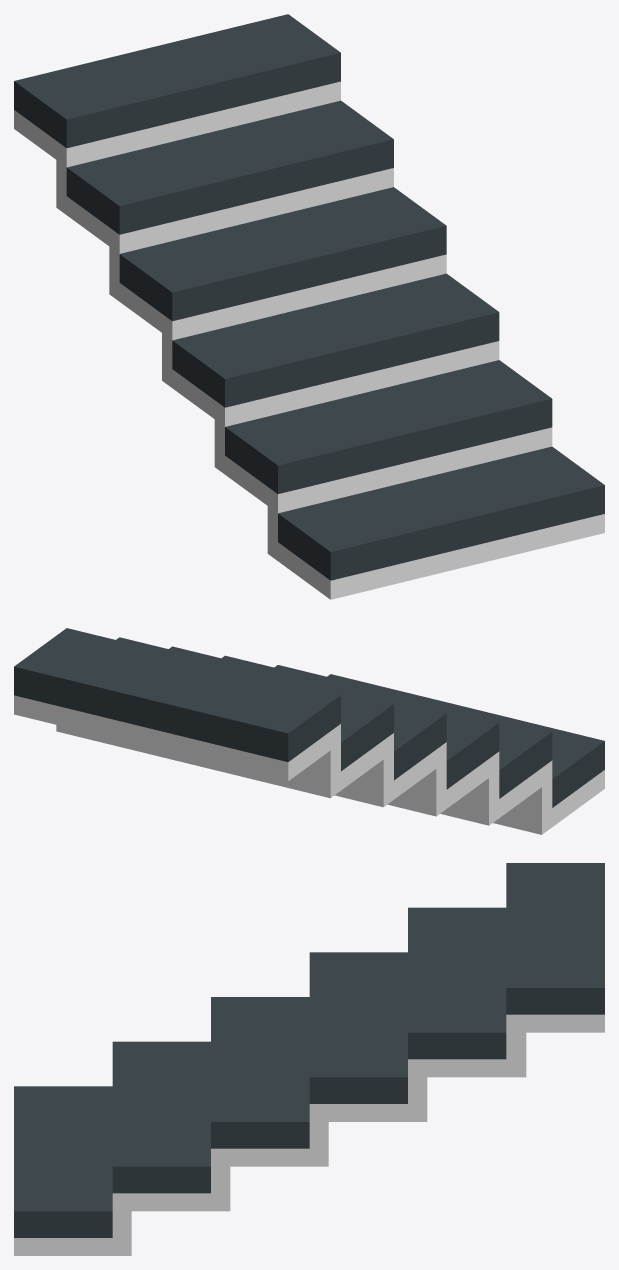
Rendered from StairsLongV2.fbx.
The picture shows the model from 3 angles, top to bottom: view 1: azimuth 30°, elevation 25°; view 2: azimuth 150°, elevation 25°; view 3: azimuth 270°, elevation 25°; orthographic projection. The views are drawn at different scales.
Parts seen in each view (by area): view 1: StairsLongV2; view 2: StairsLongV2; view 3: StairsLongV2.
Boxes of the visible parts, x1,y1,x2,y2 form: StairsLongV2: [14, 14, 604, 599]; StairsLongV2: [14, 628, 604, 834]; StairsLongV2: [14, 863, 604, 1255].
Bounding box in the file's own units: 100 × 100 × 200.
